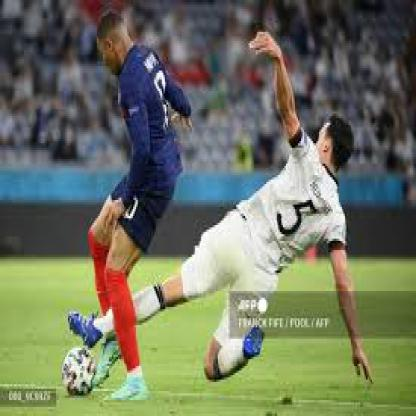Fall_Down: (67, 30, 375, 386)
